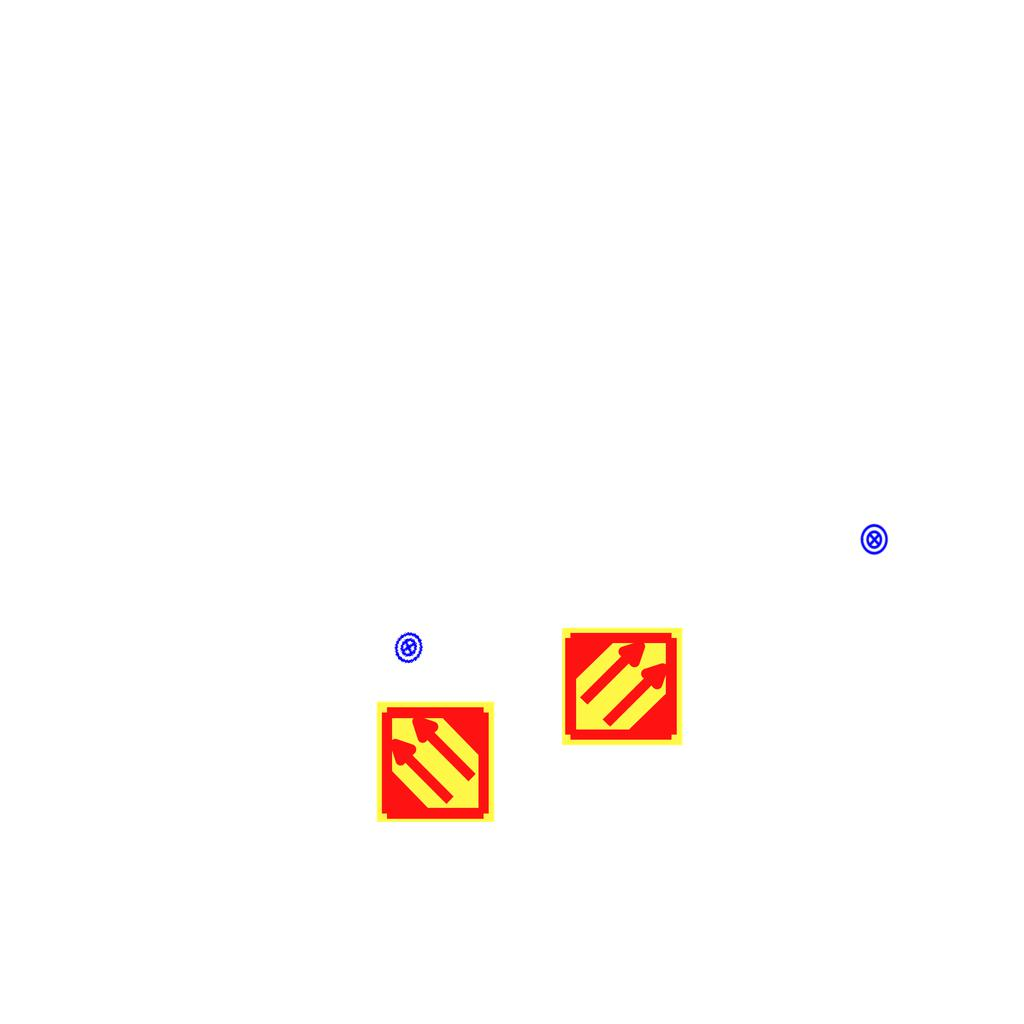ASR_Ansaugrauchmelder: (560, 624, 685, 749), (373, 699, 498, 824)
Taster_beleuchtet: (387, 626, 430, 669), (858, 523, 891, 556)
